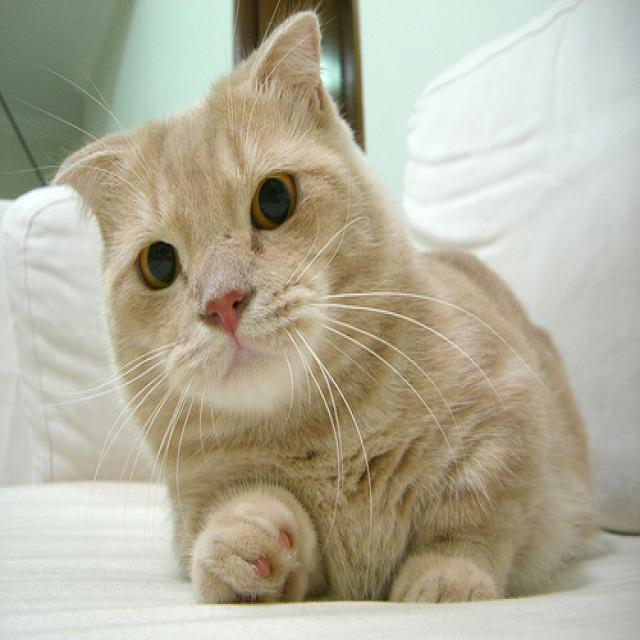cat: (19, 3, 614, 605)
